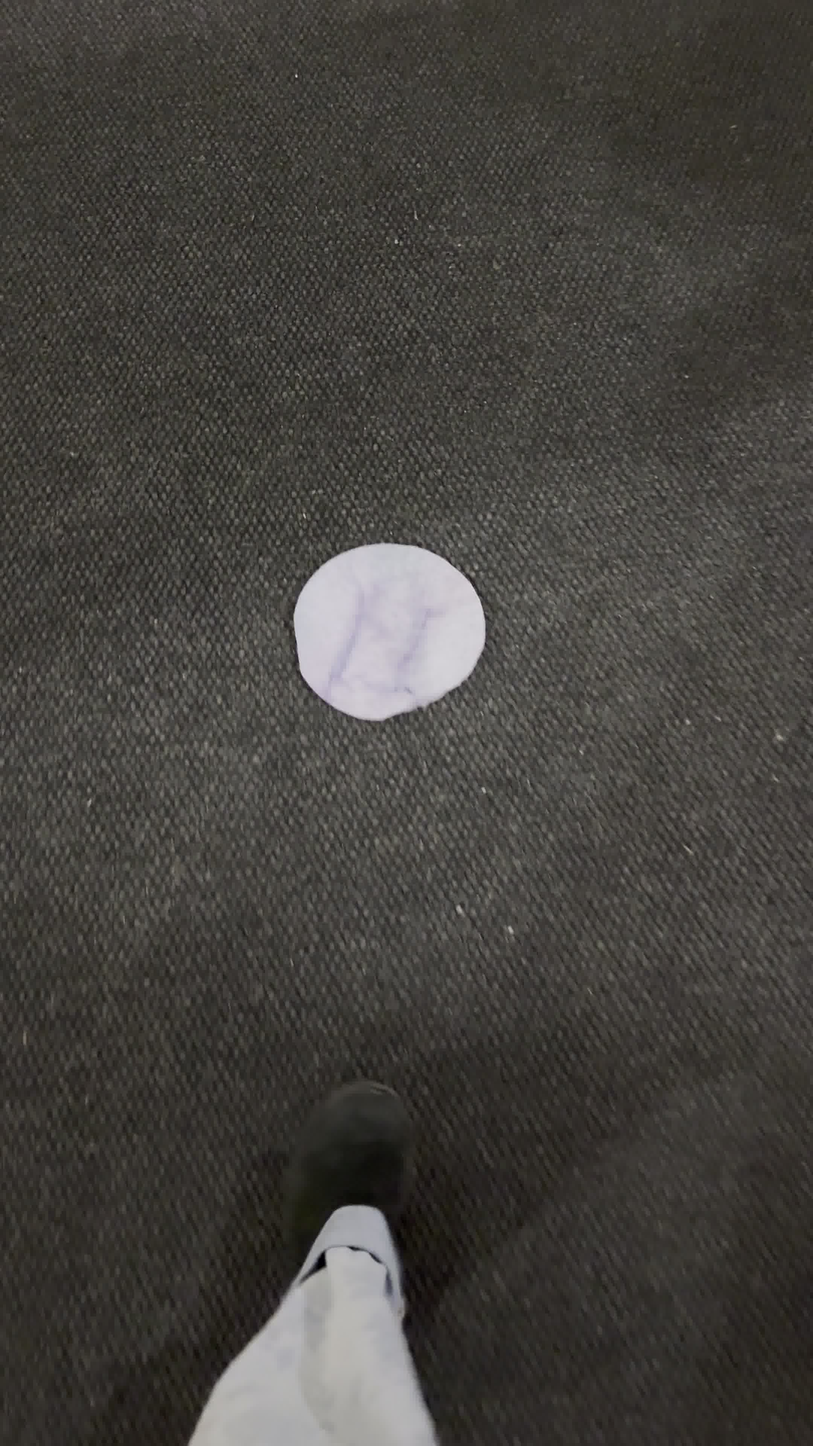Target: (293, 543, 486, 718)
